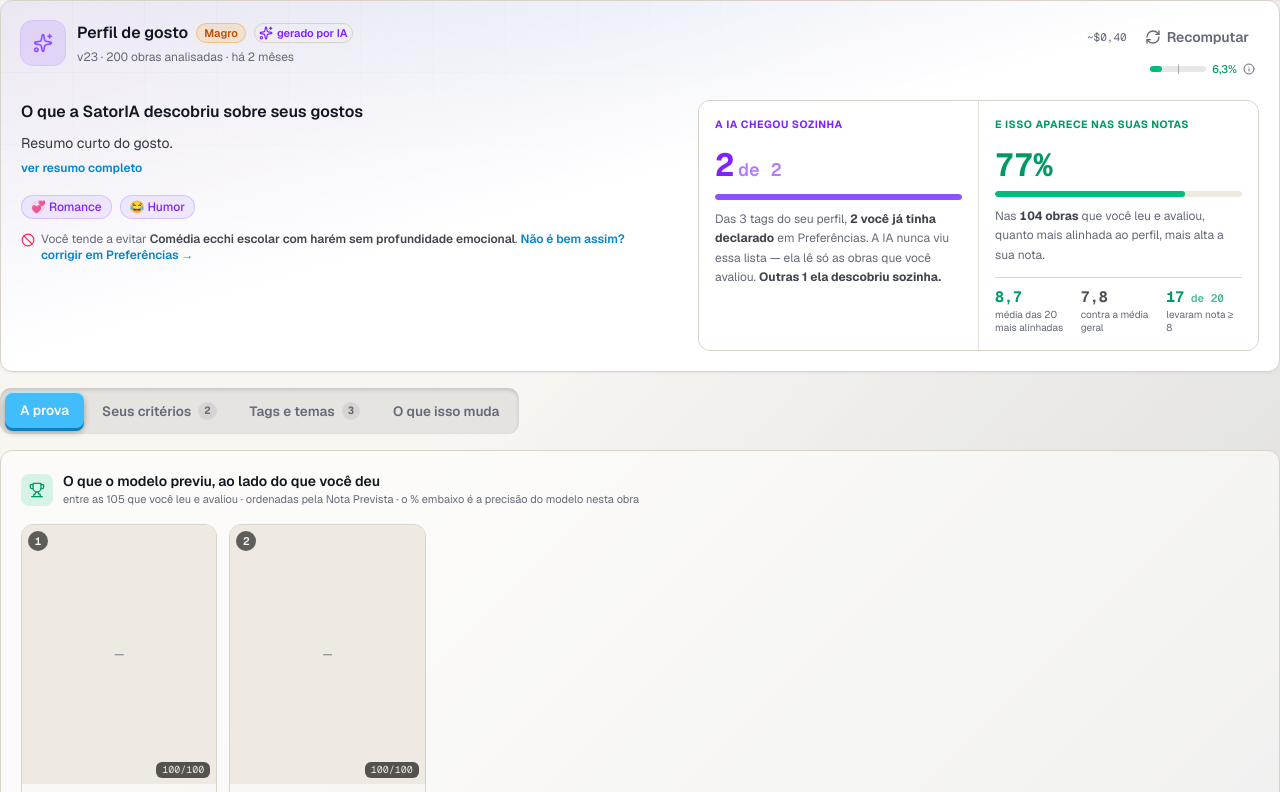
Scenario: aba Seus critérios › 🔴 mostra a frase que a IA escreveu sobre o critério
The image size is (1280, 792).
Click the tab "Seus critérios 2" at (159, 411), box [87,393,232,429]
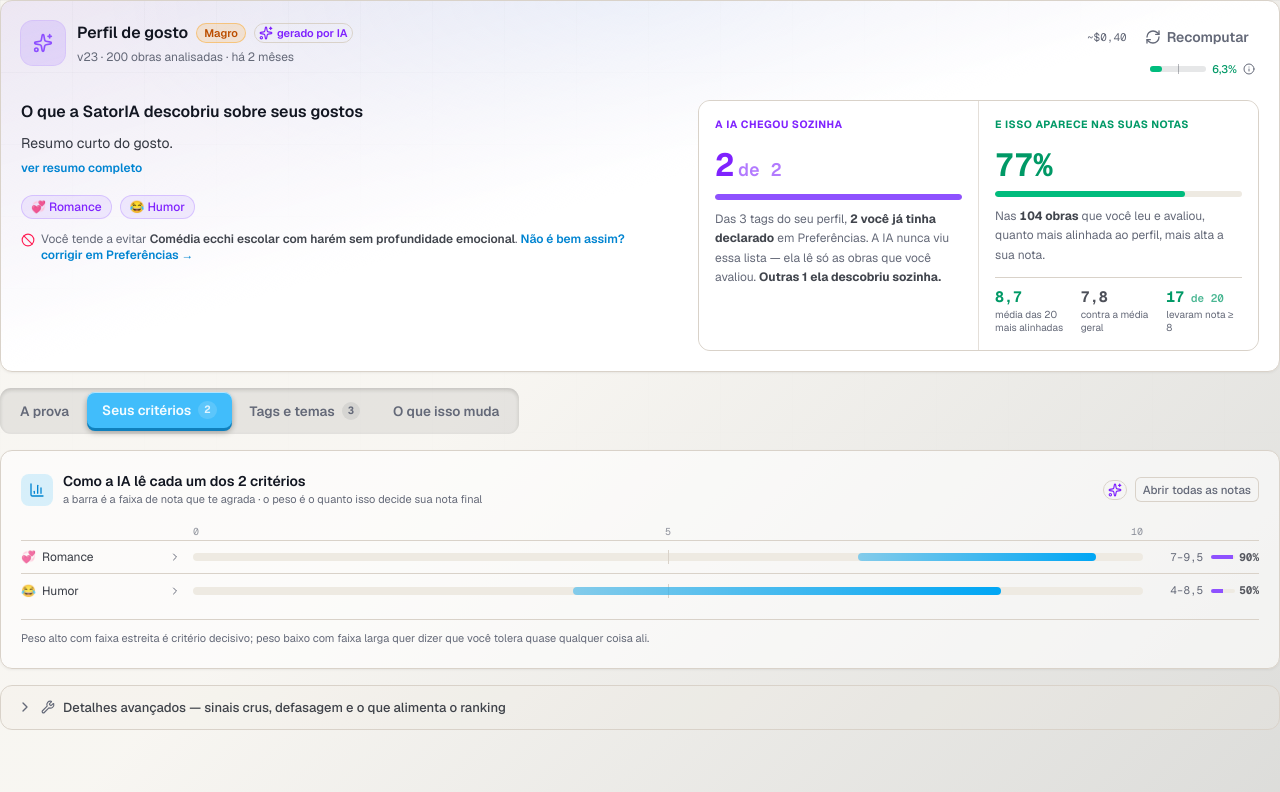
Expected: the text "Romance é o pilar central" is not shown
Click the button "💞 Romance 7–9,5 90%" at (640, 557), box [21,541,1259,573]
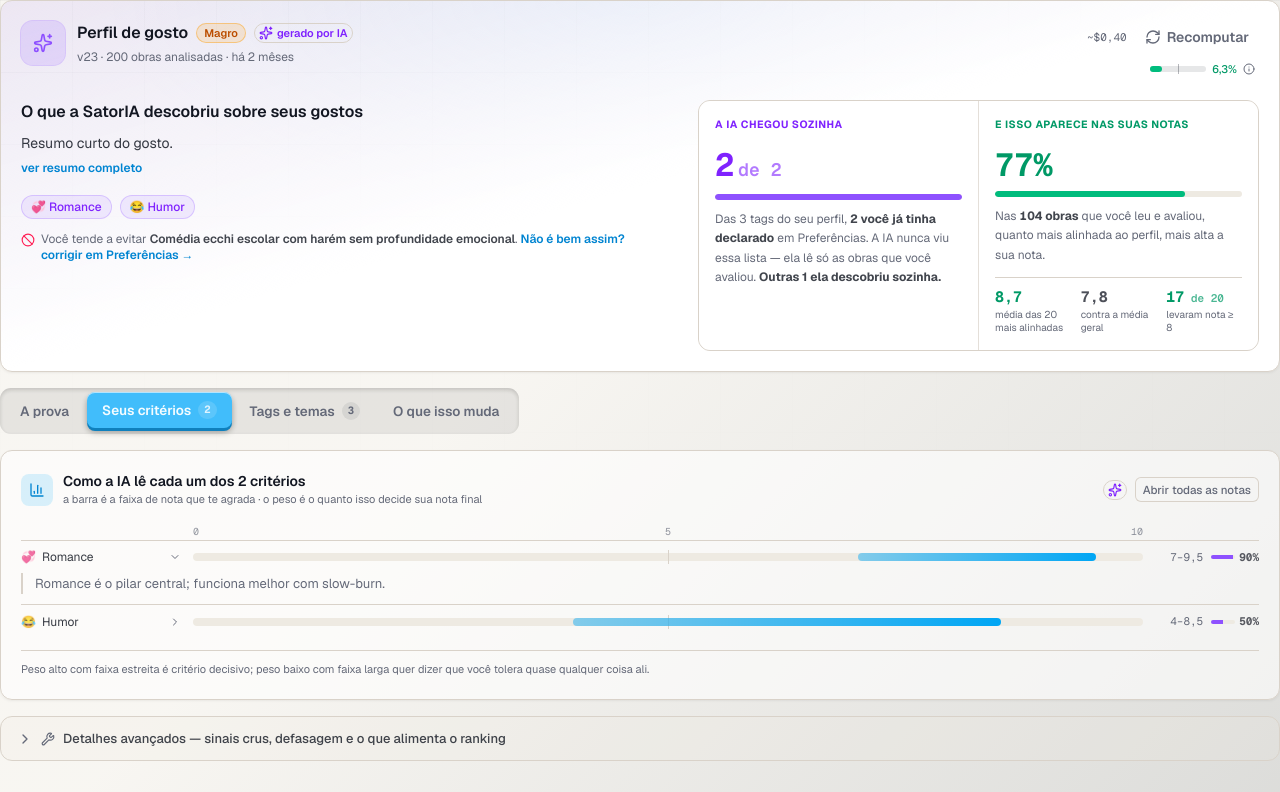
Expected: the text "Romance é o pilar central; funciona melhor com slow-burn." is shown, [21,573,1259,594]
